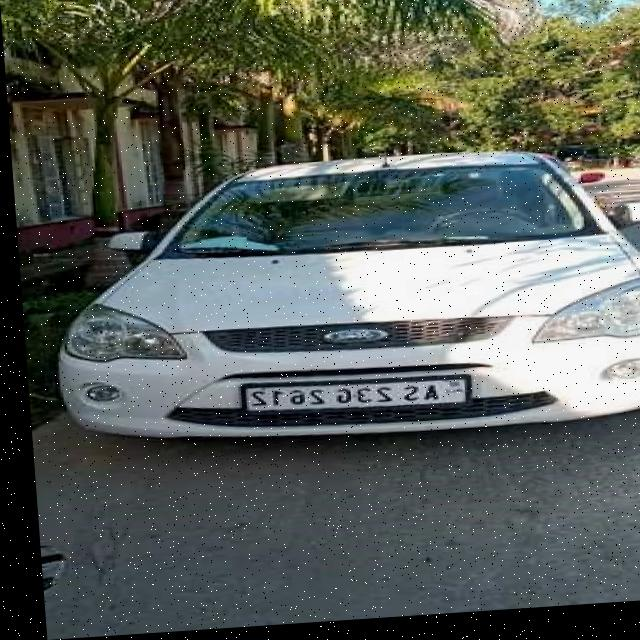plate: (232, 378, 464, 420)
